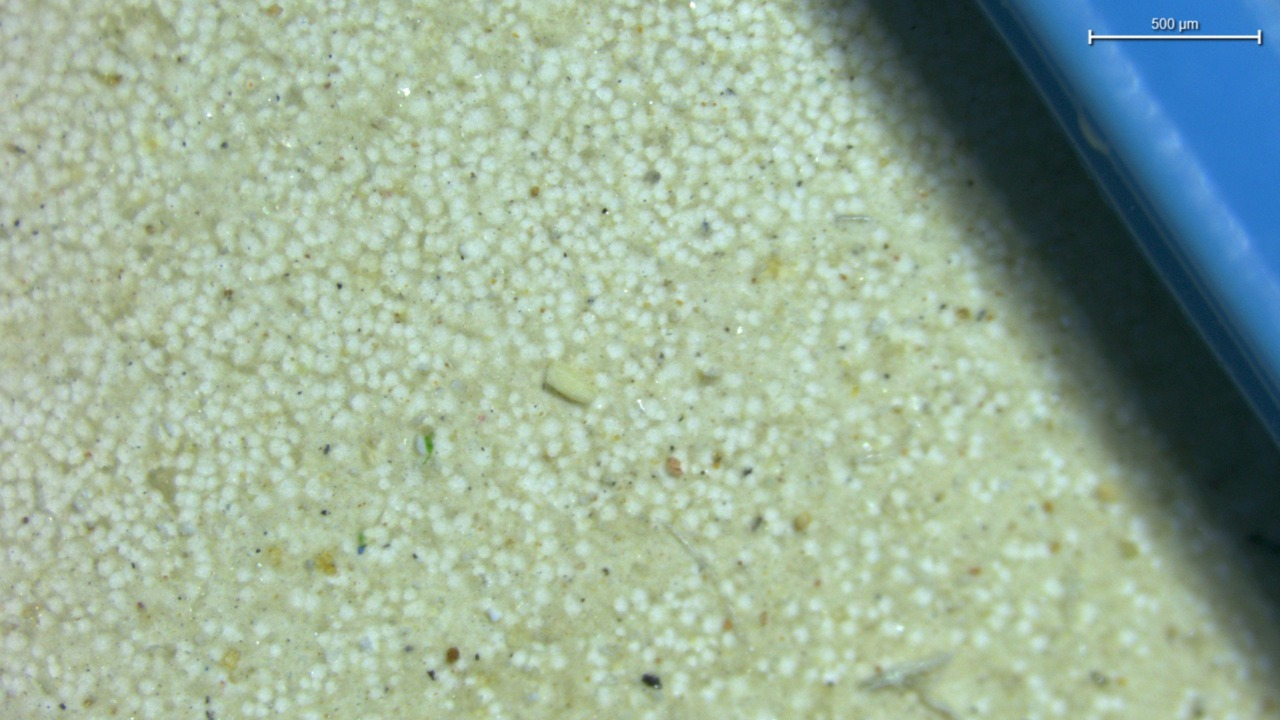microplastic_fragment: (544, 363, 598, 406)
